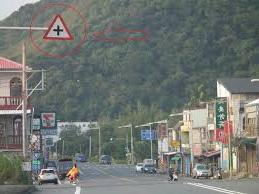fork_road: (41, 11, 73, 39)
